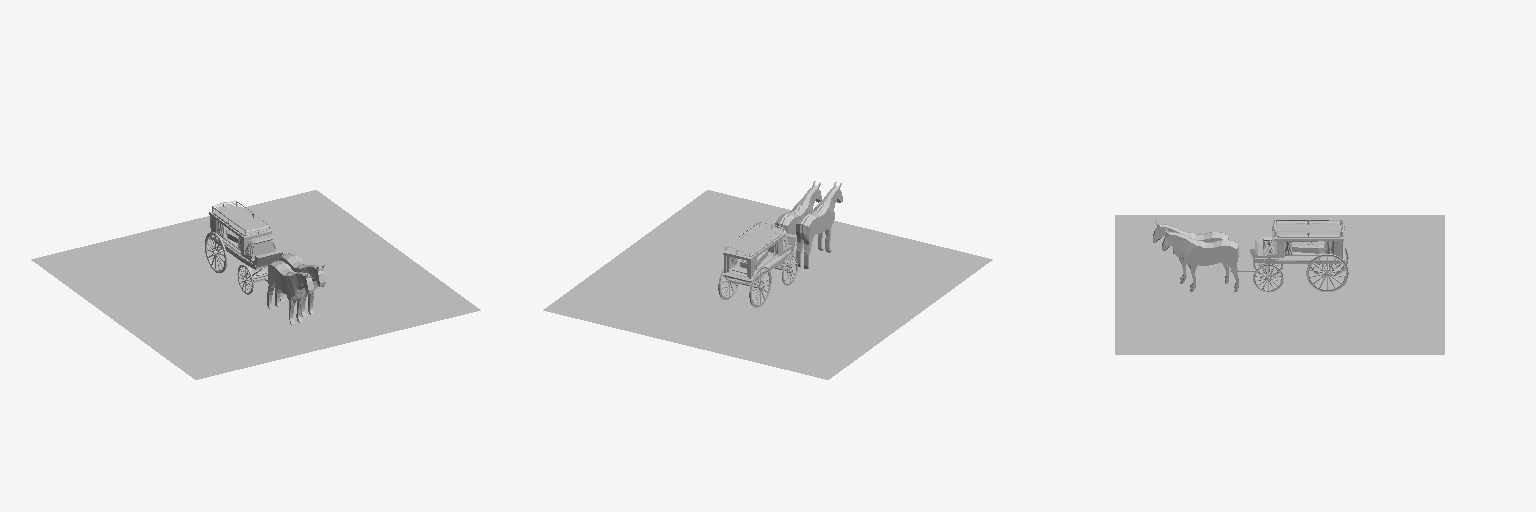
The model's file is horse hearse carriage victorian with curtains and flowers.obj.
3 renders of one model, left to right at view 1: azimuth 30°, elevation 25°; view 2: azimuth 150°, elevation 25°; view 3: azimuth 270°, elevation 25°, orthographic.
Visible parts, largest first — view 1: Plane, Plane.003, Cube, Cube.002, Plane.002; view 2: Plane, Plane.003, Cube, Cube.002, Plane.002; view 3: Plane, Plane.002, Cube, Cube.002, Plane.003.
Part boxes in pixels (left/top/right/bottom): Plane: left=31, top=190, right=480, bottom=379; Plane.003: left=267, top=260, right=313, bottom=324; Cube: left=210, top=216, right=282, bottom=269; Cube.002: left=209, top=206, right=271, bottom=240; Plane.002: left=279, top=253, right=325, bottom=316; Plane: left=543, top=190, right=992, bottom=379; Plane.003: left=796, top=182, right=842, bottom=268; Cube: left=724, top=233, right=796, bottom=282; Cube.002: left=723, top=227, right=785, bottom=261; Plane.002: left=775, top=181, right=821, bottom=268; Plane: left=1115, top=215, right=1444, bottom=354; Plane.002: left=1162, top=228, right=1238, bottom=291; Cube: left=1249, top=237, right=1344, bottom=263; Cube.002: left=1274, top=224, right=1343, bottom=240; Plane.003: left=1153, top=220, right=1228, bottom=283.
Size of the model in its own units: 15.61 by 3.14 by 15.61.